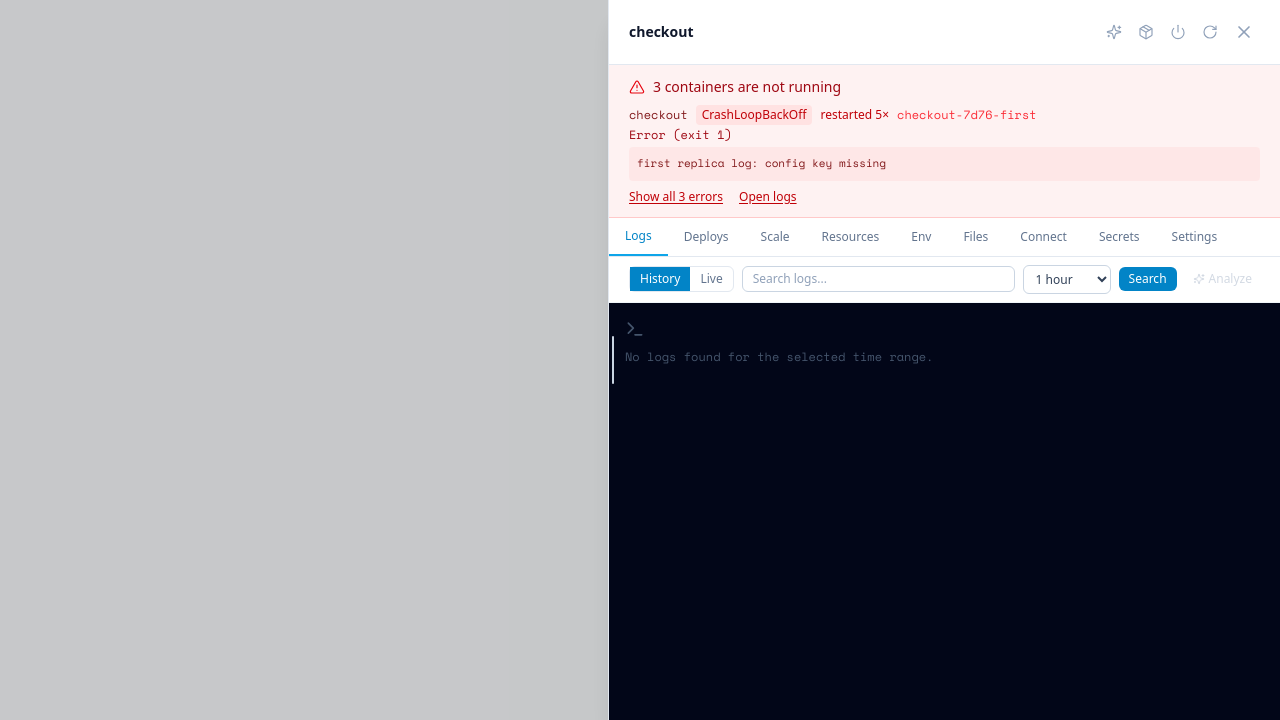
Scenario: when several containers fail › lists every failure in the modal
The image size is (1280, 720).
Click the button with test id "app-health-show-all" at (676, 197), box [629,189,723,205]
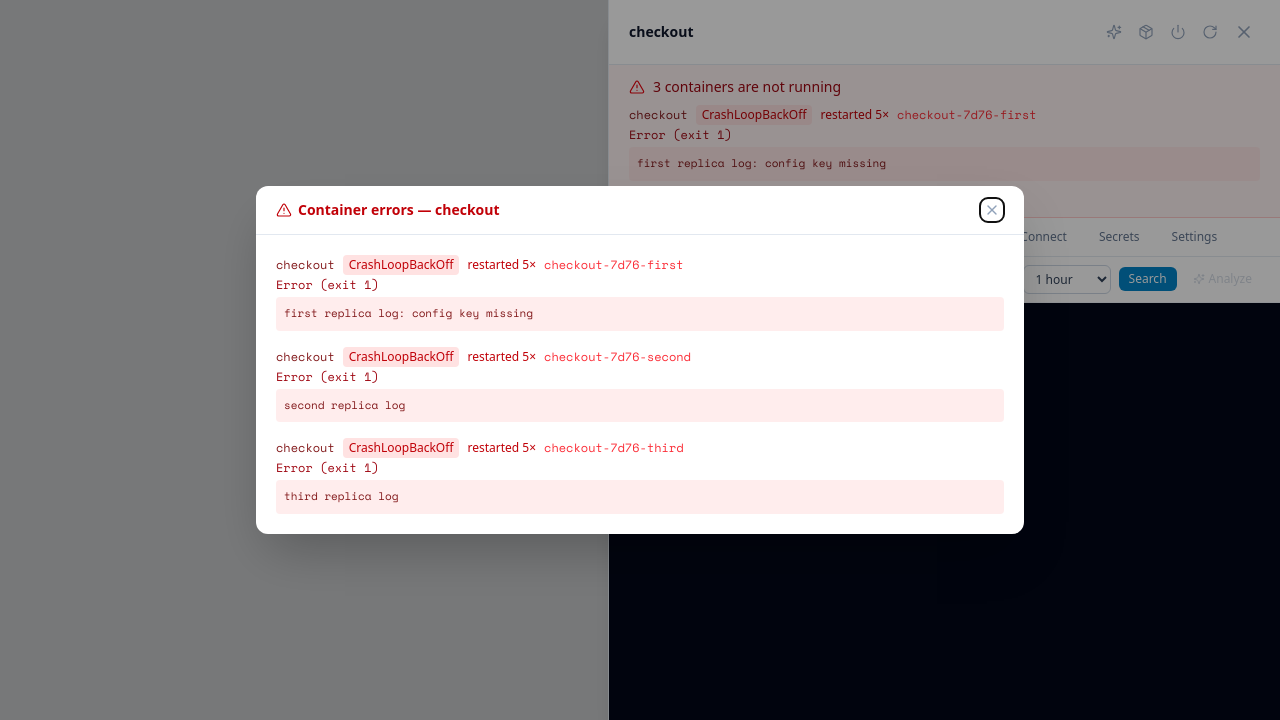
Now the text "second replica log" is shown, box [276,389,1004,422]
Now the text "third replica log" is shown, box [276,480,1004,514]
Now the text "checkout-7d76-third" is shown, box [544,440,684,456]
